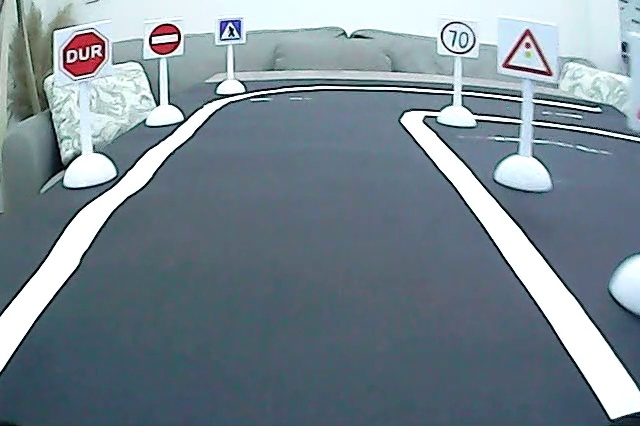do not enter: (147, 20, 184, 58)
pedestrian crossing: (217, 16, 243, 44)
red light: (500, 26, 558, 82)
speed limit 70: (438, 20, 478, 56)
stop sign: (58, 24, 112, 80)
